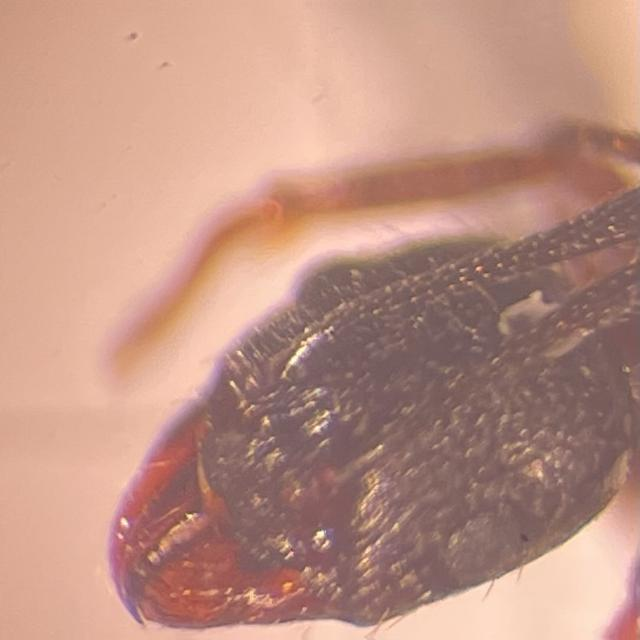Apheanogaster: (53, 34, 639, 636)
